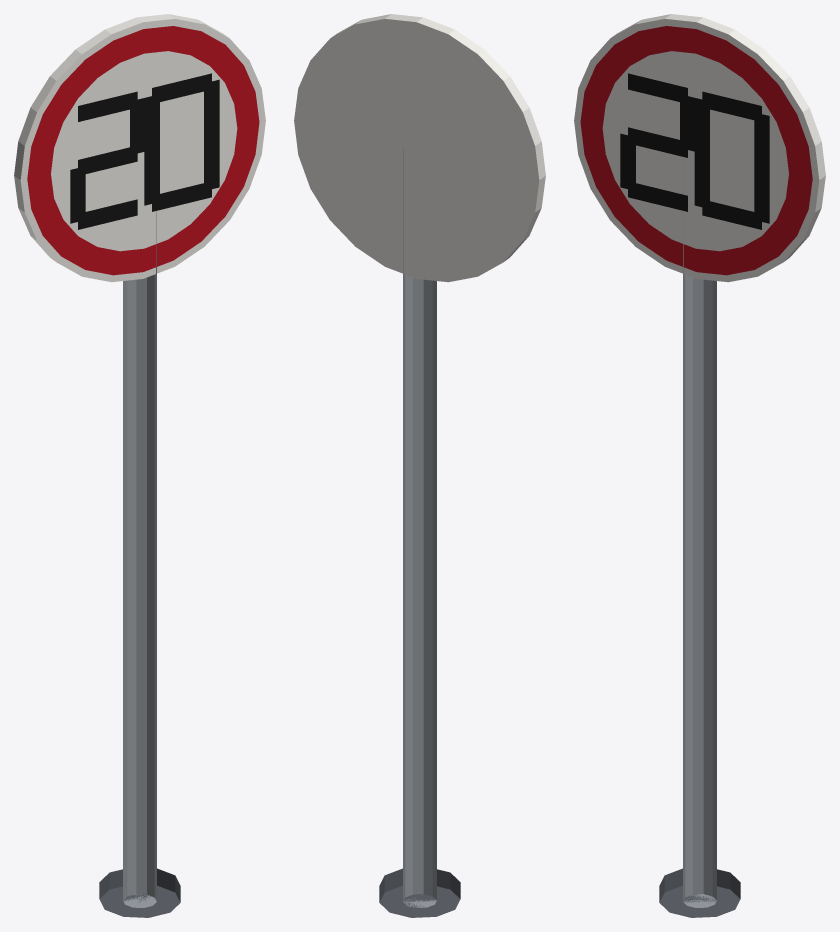
Rendered from sign-speed-20.glb.
3 views of the same model, side by side, from view 1: azimuth 30°, elevation 25°; view 2: azimuth 150°, elevation 25°; view 3: azimuth 330°, elevation 25° (orthographic).
Parts seen in each view (by area): view 1: sign-speed-20; view 2: sign-speed-20; view 3: sign-speed-20.
Part boxes in pixels (bbox=[...]): sign-speed-20: bbox=[14, 14, 265, 917]; sign-speed-20: bbox=[294, 14, 545, 917]; sign-speed-20: bbox=[574, 14, 825, 917].
Bounding box in the file's own units: 0.75 × 2.58 × 0.2054.
